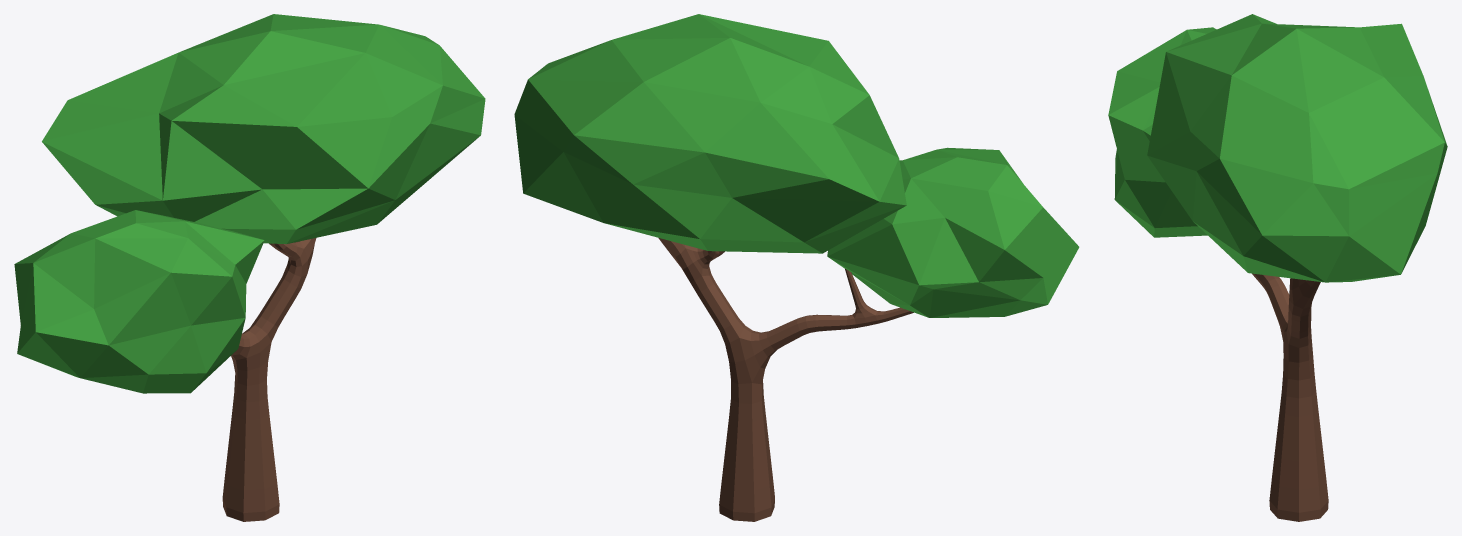
Rendered from tree54.fbx.
The picture shows the model from 3 angles, left to right: view 1: azimuth 30°, elevation 25°; view 2: azimuth 150°, elevation 25°; view 3: azimuth 270°, elevation 25°; orthographic projection. The views are drawn at different scales.
Visible parts, largest first — view 1: Icosphere; view 2: Icosphere; view 3: Icosphere.
Boxes of the visible parts, x1=… form: Icosphere: x1=14, y1=14, x2=485, y2=521; Icosphere: x1=514, y1=14, x2=1079, y2=521; Icosphere: x1=1108, y1=14, x2=1447, y2=521.
Size of the model in its own units: 1856 by 1714 by 1072.
